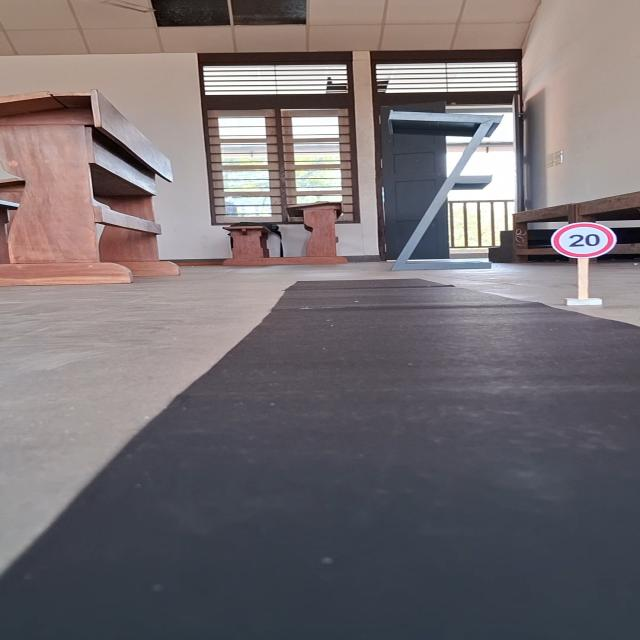Speed20: (548, 222, 620, 260)
